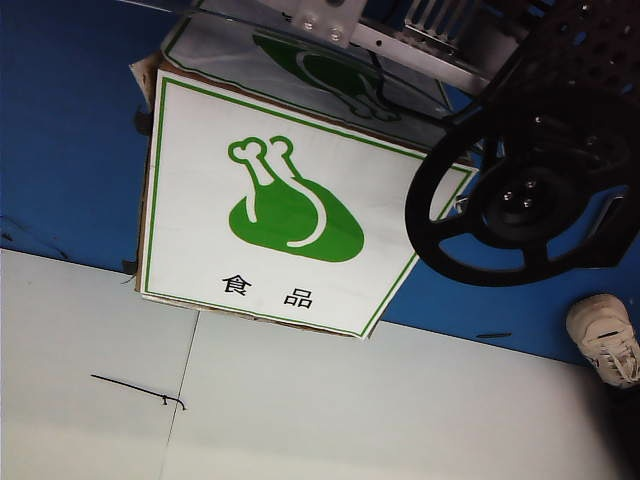Cube_food: (208, 121, 369, 318)
